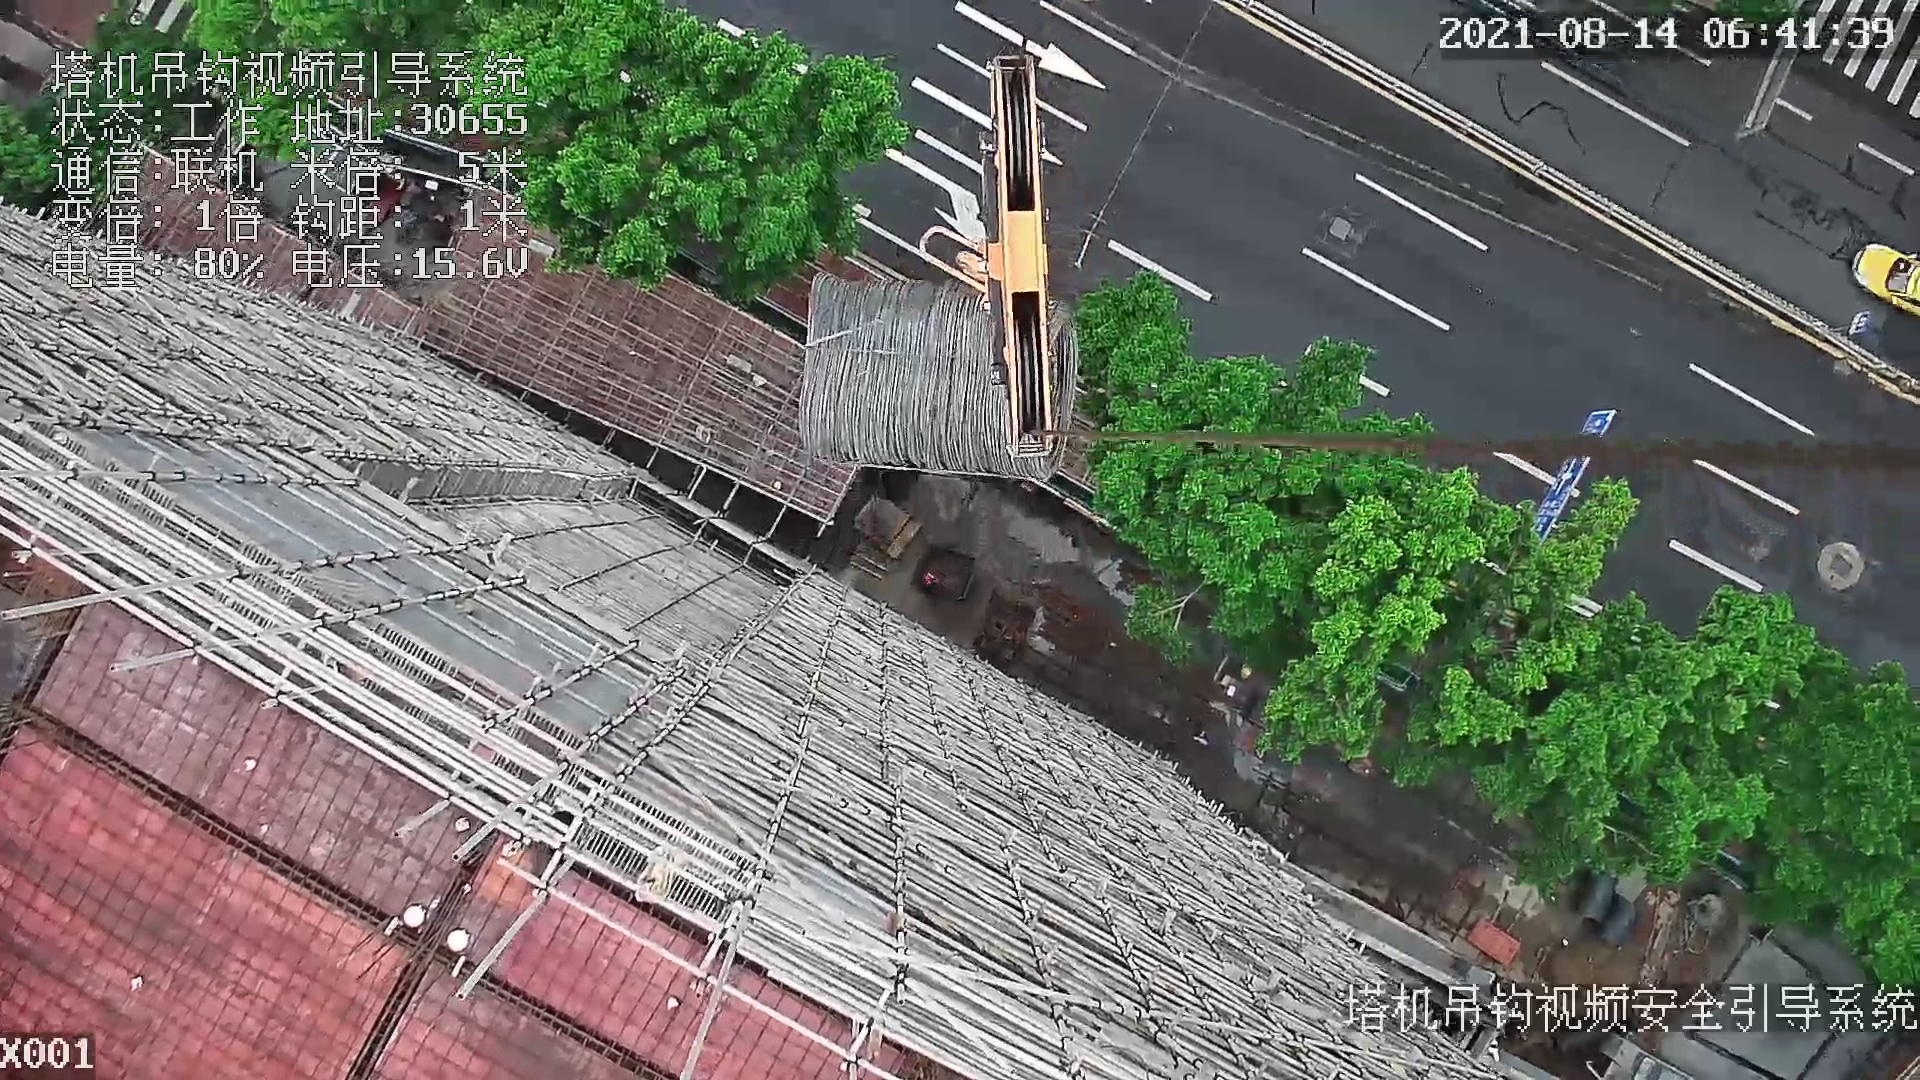hook: (920, 40, 1059, 459)
